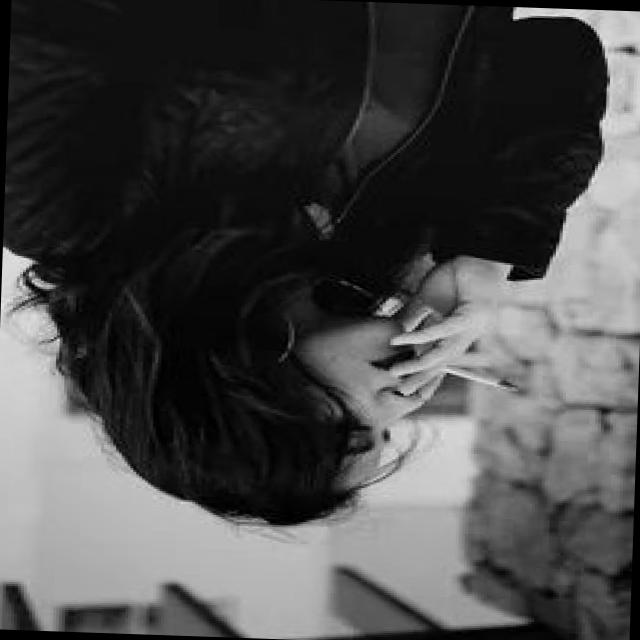cigarette: (418, 353, 527, 398)
